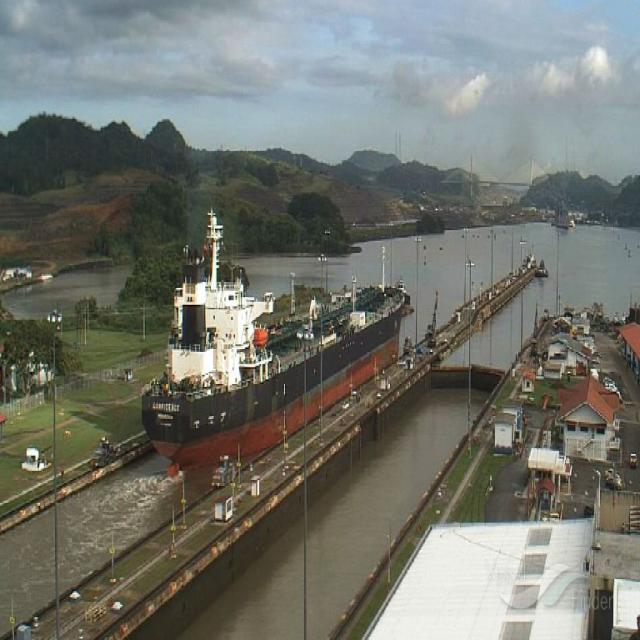Oil Tanker: (142, 212, 409, 468)
